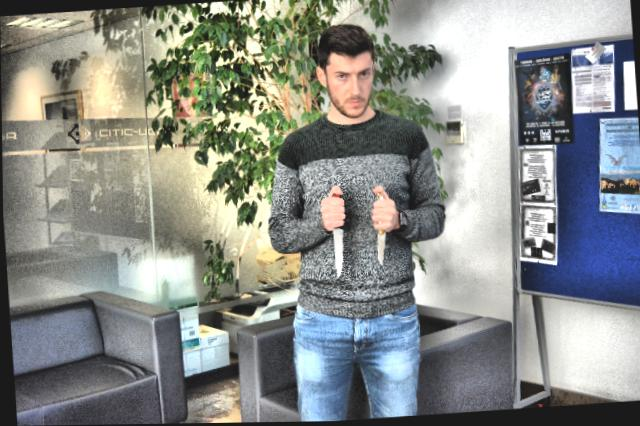knife: (326, 183, 351, 283), (368, 184, 389, 271)
